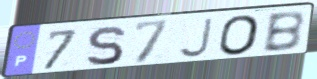7: (133, 18, 172, 66), (43, 27, 80, 71)
B: (260, 9, 306, 54)
J: (176, 16, 215, 59)
O: (217, 13, 262, 57)
S: (84, 24, 127, 68)
